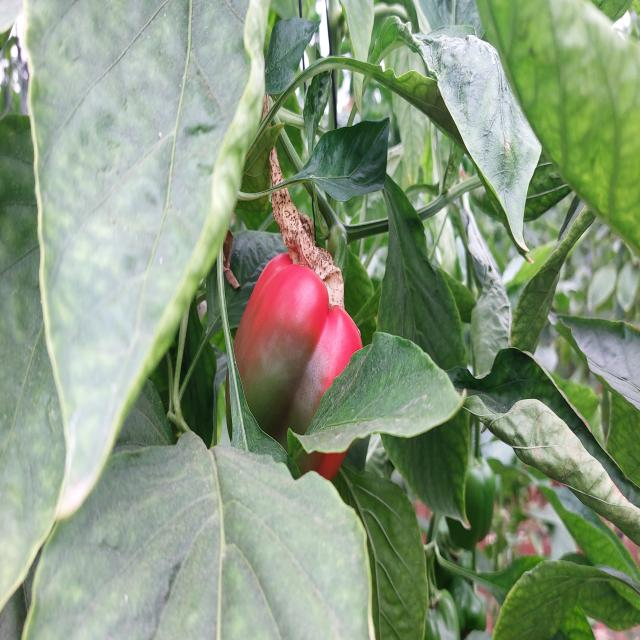BrownishRed--Can-be-Harvested: (223, 244, 385, 496)
